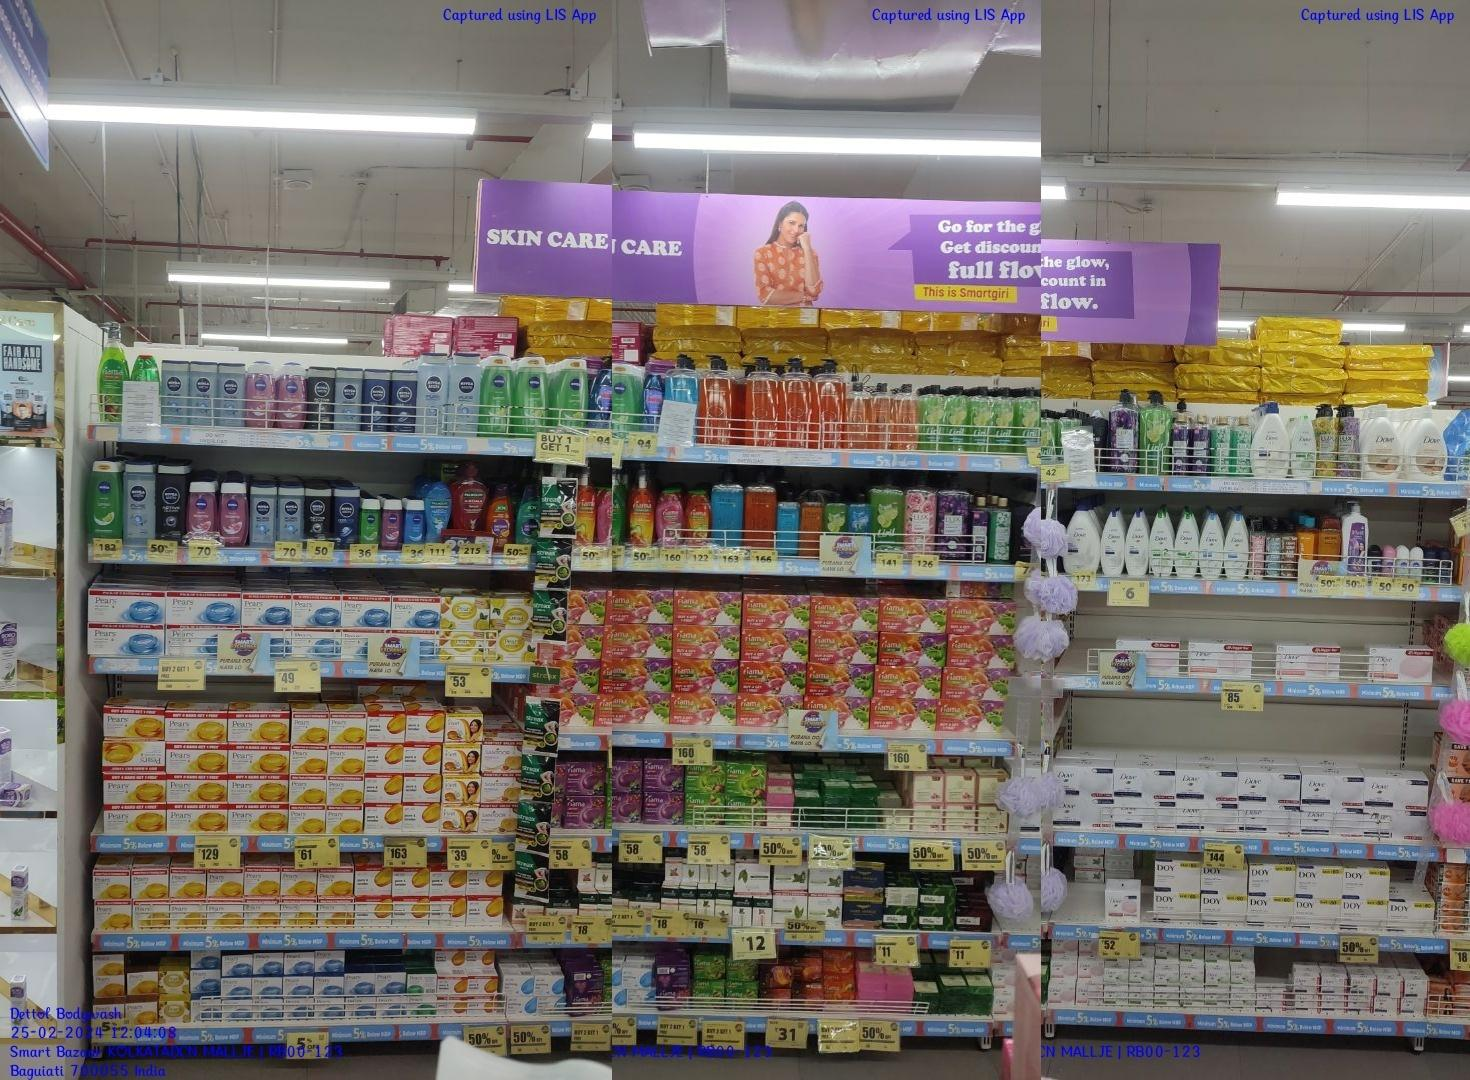Dove_Deep_Moisture_Body_Wash_250ML: (1101, 509, 1124, 574), (1126, 511, 1148, 577)
Dove_Gentle_Exfoliating_Body_Wash_250ML: (1292, 414, 1316, 478), (1225, 516, 1249, 579), (1201, 514, 1223, 579)
Dove_Refreshing_Body_Wash_250ML: (1176, 514, 1198, 578), (1152, 513, 1172, 575)
Fiama_Shower_Gel_Patchouli_and_Macadamia_250ML: (656, 490, 684, 543)
Fiama_Shower_Gel_Peach_and_Avocado_250ML: (686, 490, 710, 546)
Joy_Shower_Gel_Mandarin_and_Lemongrass_250ML: (485, 484, 515, 548)
Liril_Cooling_Mint_Body_Wash_250ML: (517, 482, 541, 543), (777, 490, 799, 556), (849, 493, 871, 533)
Liril_Lime_and_Tea_Tree_Oil_Body_Wash_250ML: (825, 493, 848, 532)
Lux_Black_Orchid_Scent_and_Juniper_Oil_Body_Wash_245ML: (972, 497, 990, 562), (1173, 412, 1189, 475), (1193, 413, 1209, 476)
Lux_Body_Wash_Skin_Detox_Freesia_Scent_and_Alove_Vera_245ML: (993, 498, 1012, 562), (1233, 416, 1252, 475), (1214, 416, 1231, 475)
Nivea_Shower_Gel_Lemon_and_Oil_250ML: (88, 460, 122, 540), (483, 354, 515, 437), (518, 355, 550, 435), (557, 358, 588, 427)
Nivea_Shower_Gel_Waterlily_and_Oil_250ML: (220, 483, 249, 547), (187, 482, 215, 540)
Palmolive_Aroma_Moments_Feel_The_Massage_Shower_Gel_250ML: (425, 483, 451, 543)
